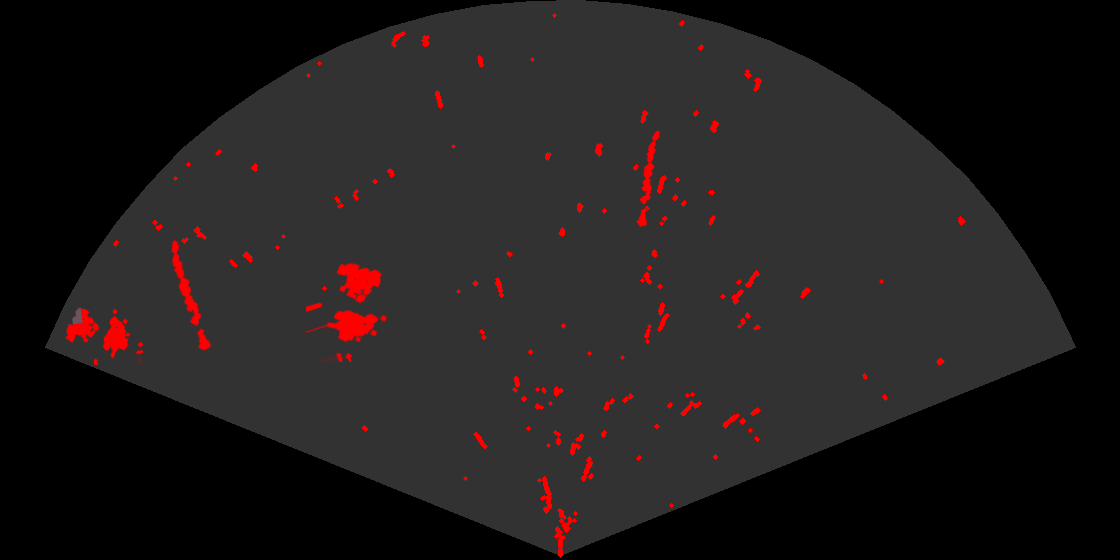cage: (306, 261, 389, 362), (64, 306, 143, 365)
chain: (169, 238, 213, 353), (635, 129, 662, 229)
